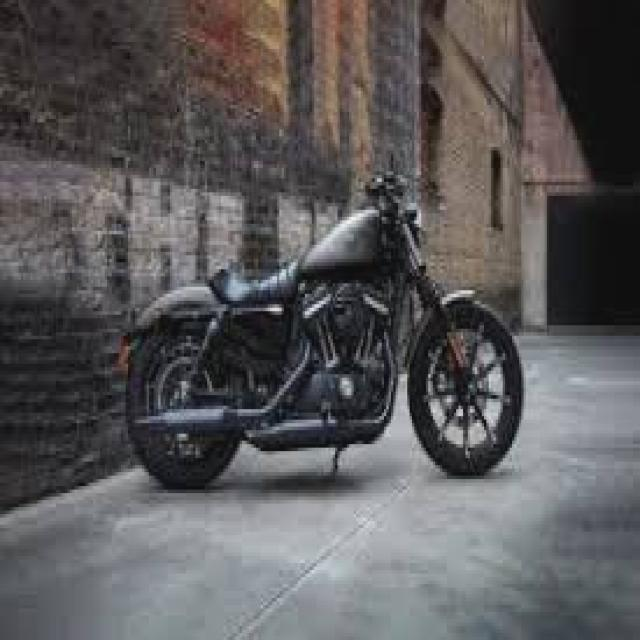MOTORCYCLE: (121, 208, 524, 490)
